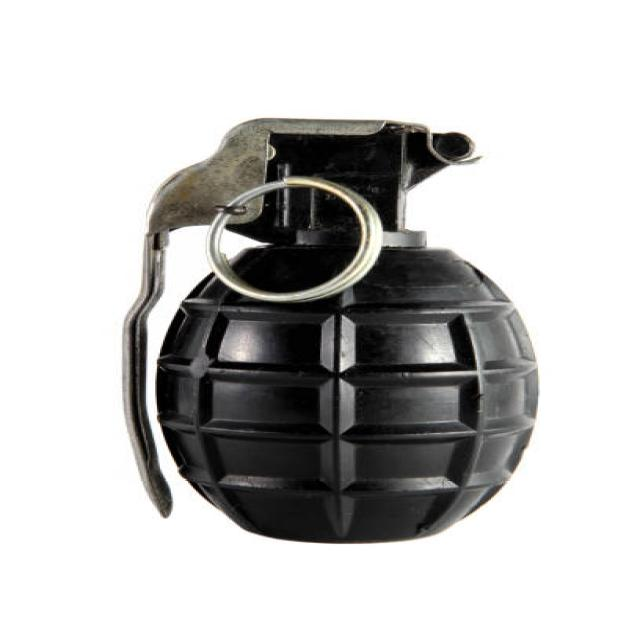grenade: (117, 108, 540, 559)
